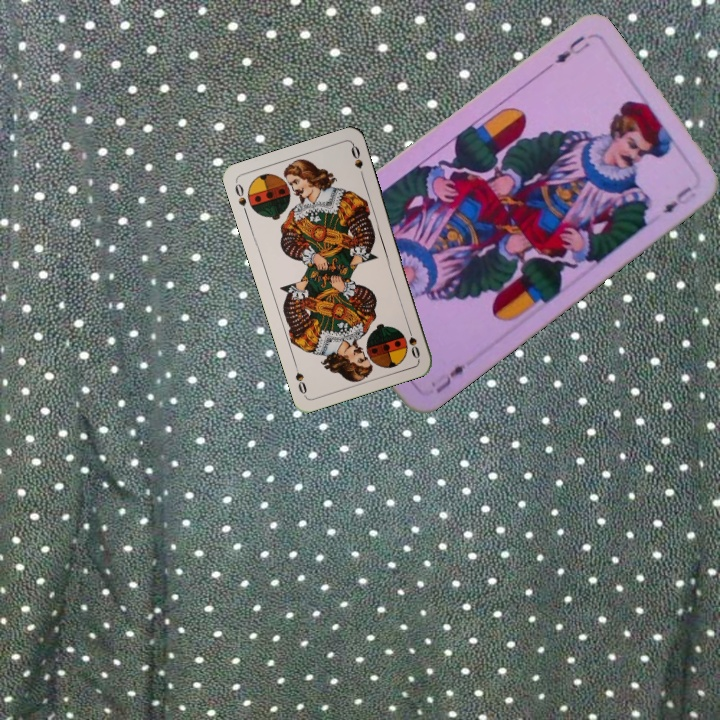EU: (540, 31, 592, 74), (431, 360, 469, 397)
SO: (403, 321, 422, 361), (231, 178, 250, 218)
